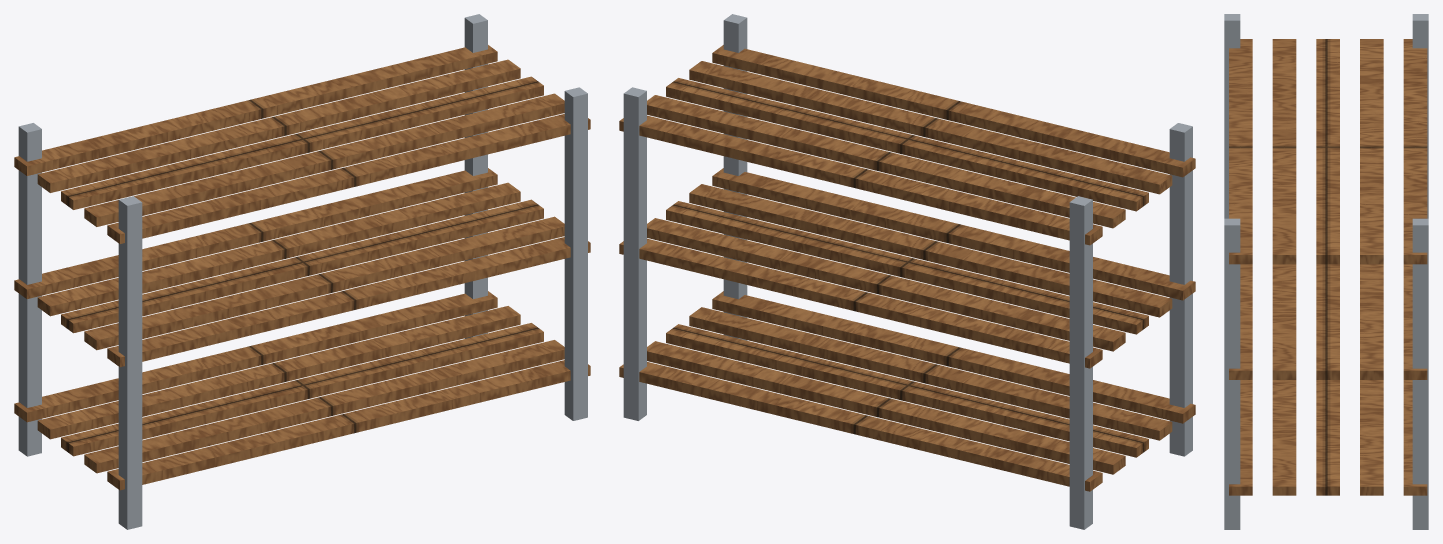
File: Cipotarto_nyitott.obj
3 renders of one model, left to right at view 1: azimuth 30°, elevation 25°; view 2: azimuth 150°, elevation 25°; view 3: azimuth 270°, elevation 25°, orthographic. The views are drawn at different scales.
Bounding box in the file's own units: 0.76 × 0.5 × 0.304.
Materials: 2 (1 with a texture image).
